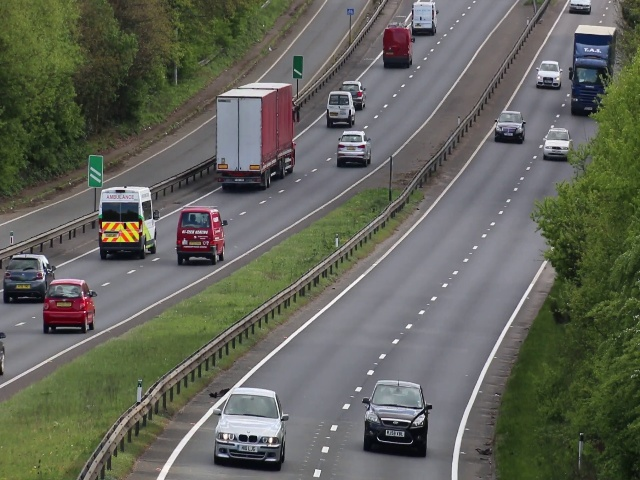car: (215, 81, 299, 193), (213, 386, 286, 471), (362, 377, 430, 457), (98, 182, 160, 262), (42, 278, 97, 337), (177, 206, 228, 264), (3, 252, 52, 304), (573, 46, 600, 113), (381, 23, 415, 70), (338, 129, 372, 167), (327, 90, 354, 127), (495, 109, 525, 142), (541, 125, 571, 158), (410, 1, 437, 35), (536, 58, 561, 90), (355, 77, 364, 111)
